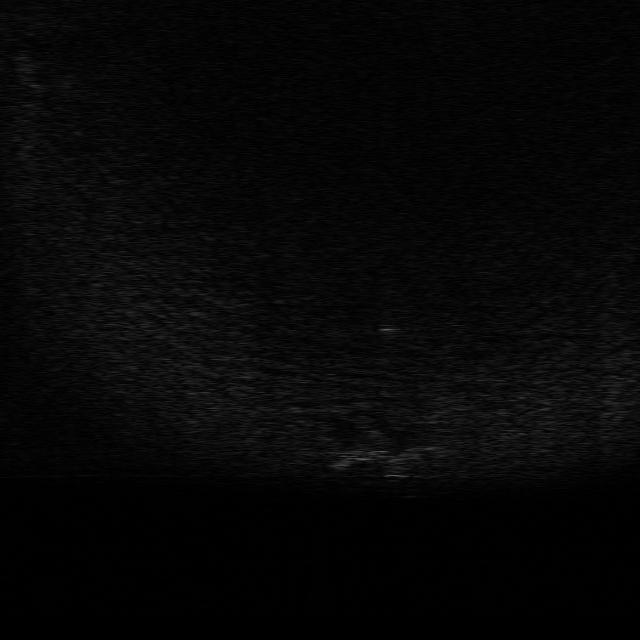plane: (322, 426, 448, 478)
